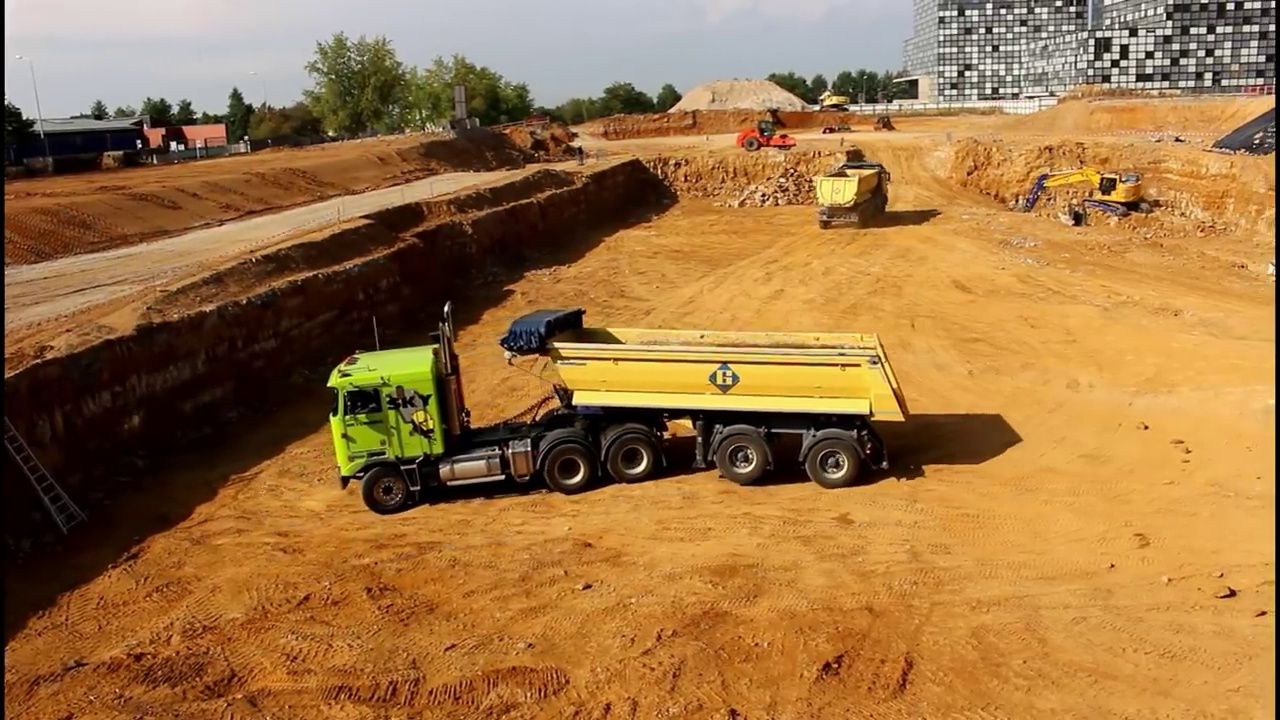compactor: (737, 114, 804, 159)
excavator: (1012, 159, 1154, 228), (814, 81, 854, 116)
truck: (316, 296, 919, 519), (814, 154, 897, 244)
